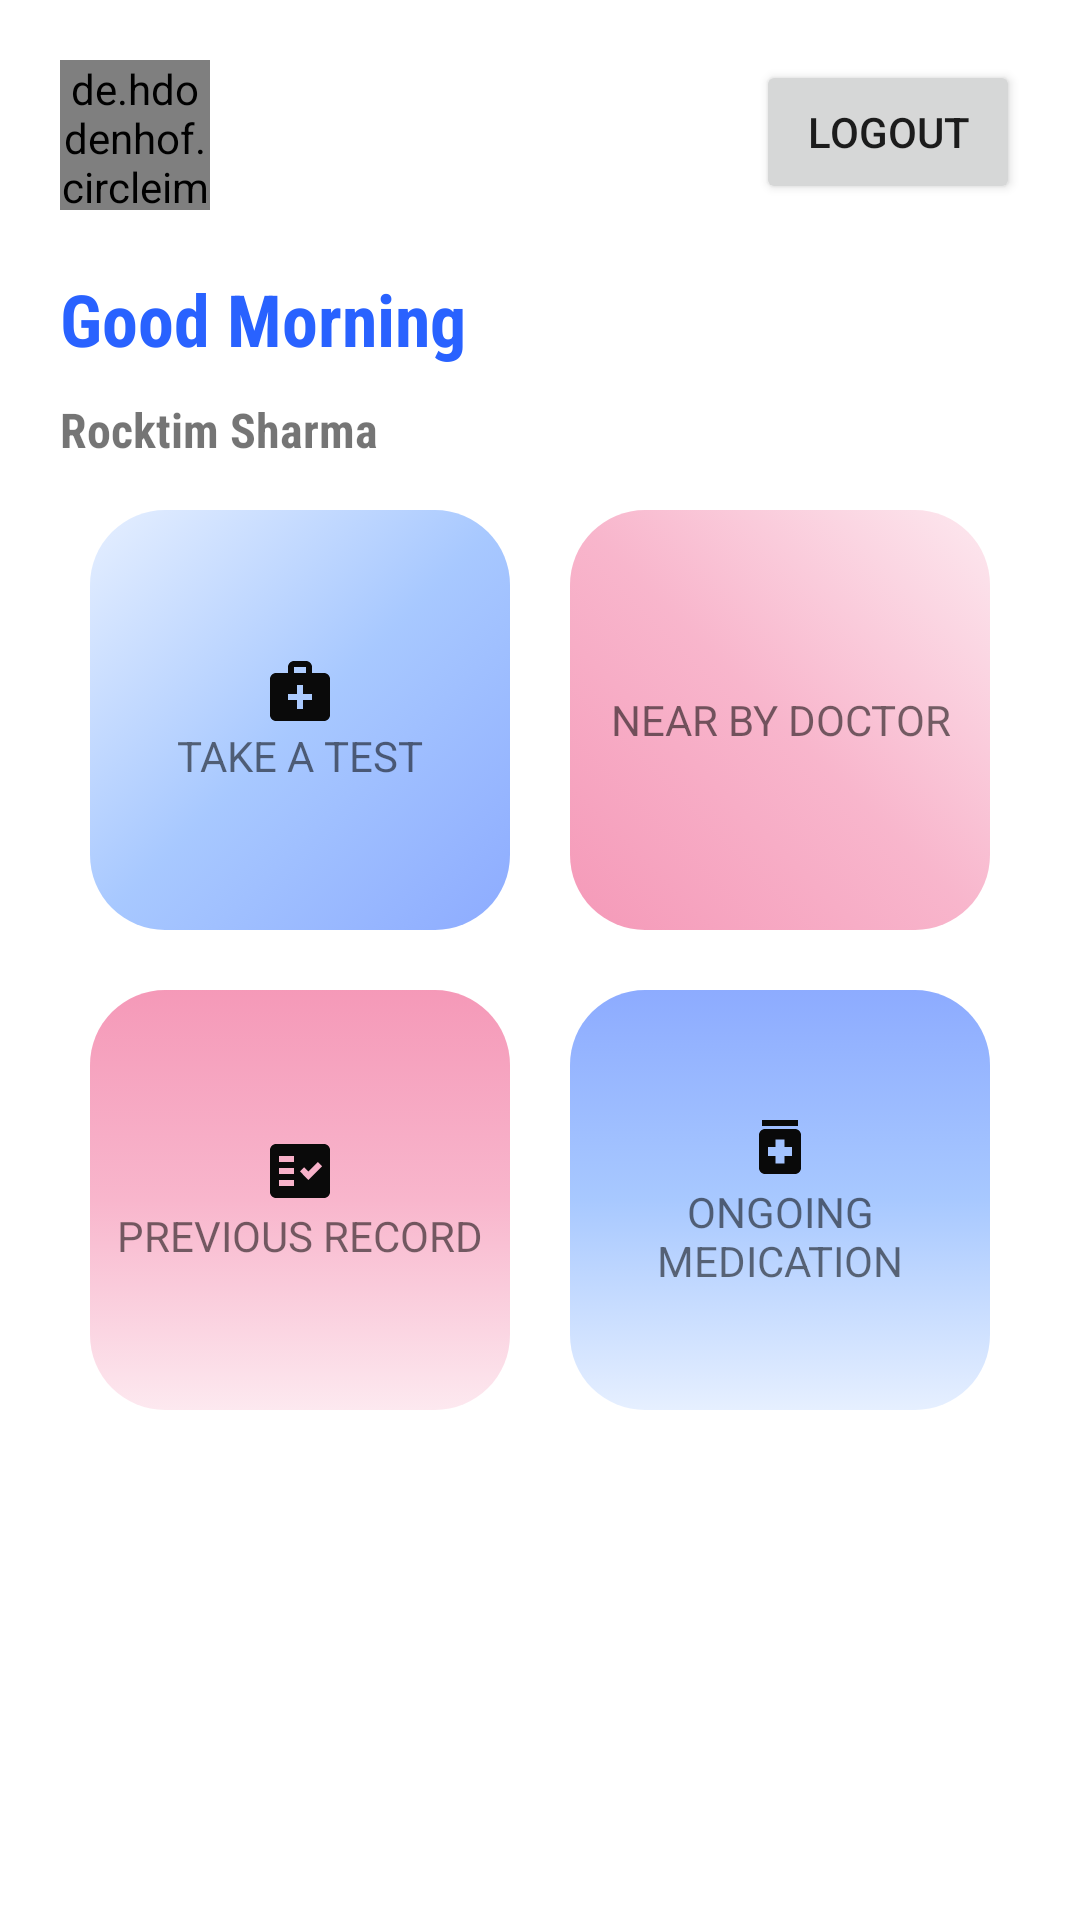

Where to tap for icons on this 1080px x 1920px app screen, as (x=x, y=y):
fact check: (x=300, y=1171)
